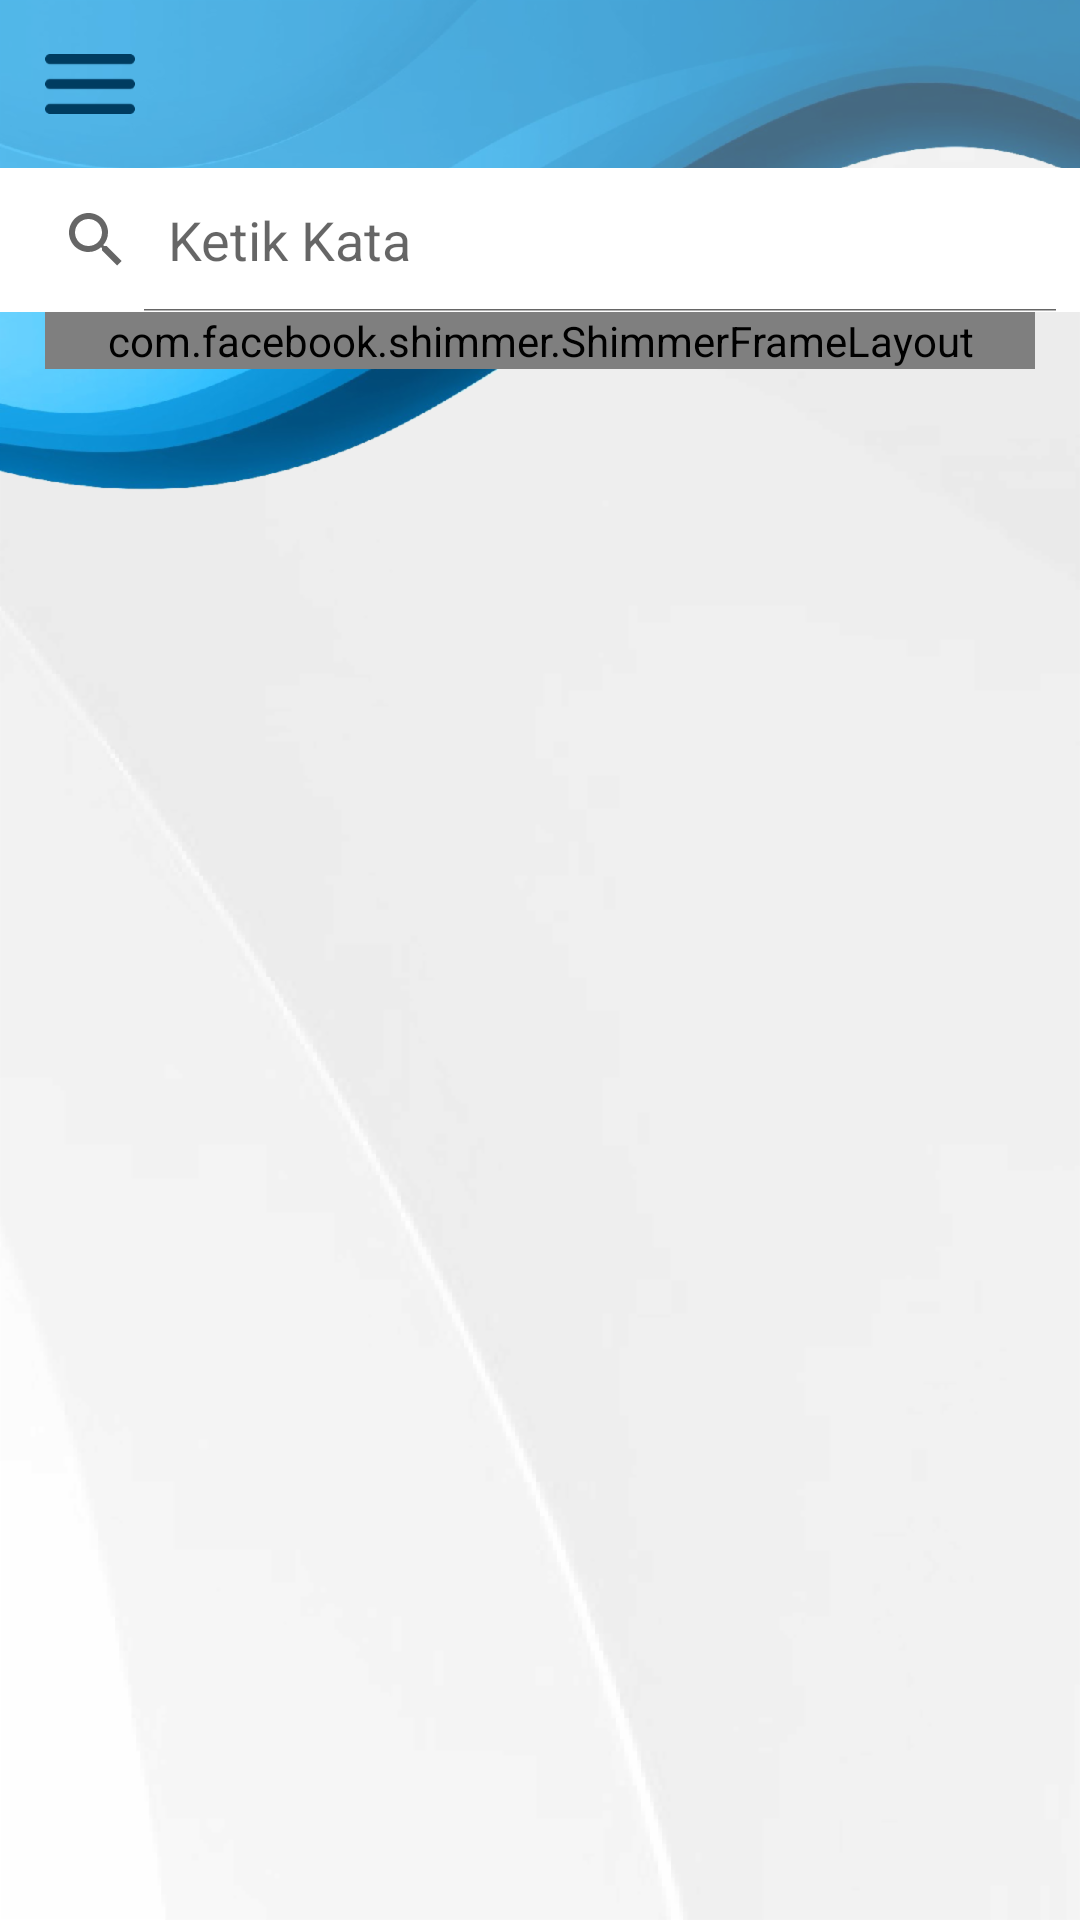

Named icons in this screenshot (1080*1920) and their centers, point (x, y):
btnmenu: point (90, 84)
